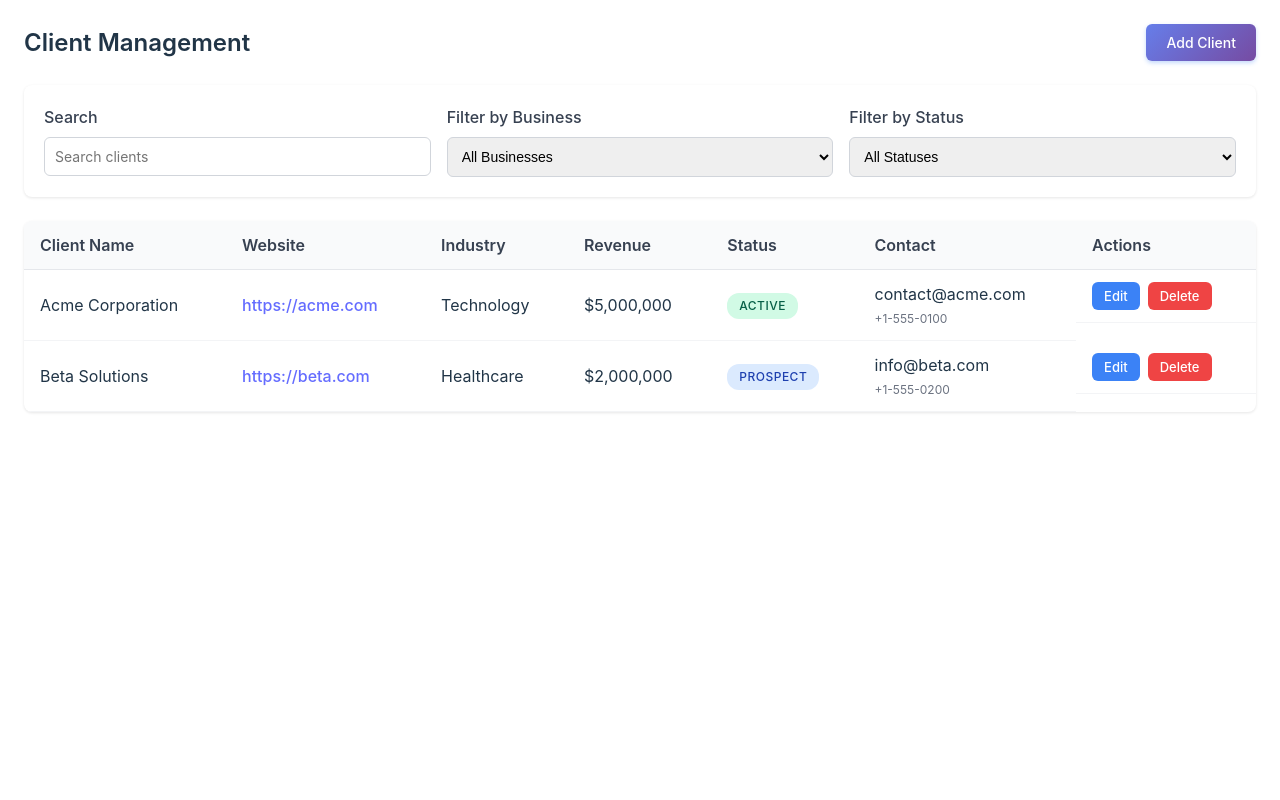
Scenario: ClientsManager › opens edit modal when Edit button is clicked
Click the button "Edit" in the row of "Acme Corporation": x=1116, y=296 [1092,282,1140,310]
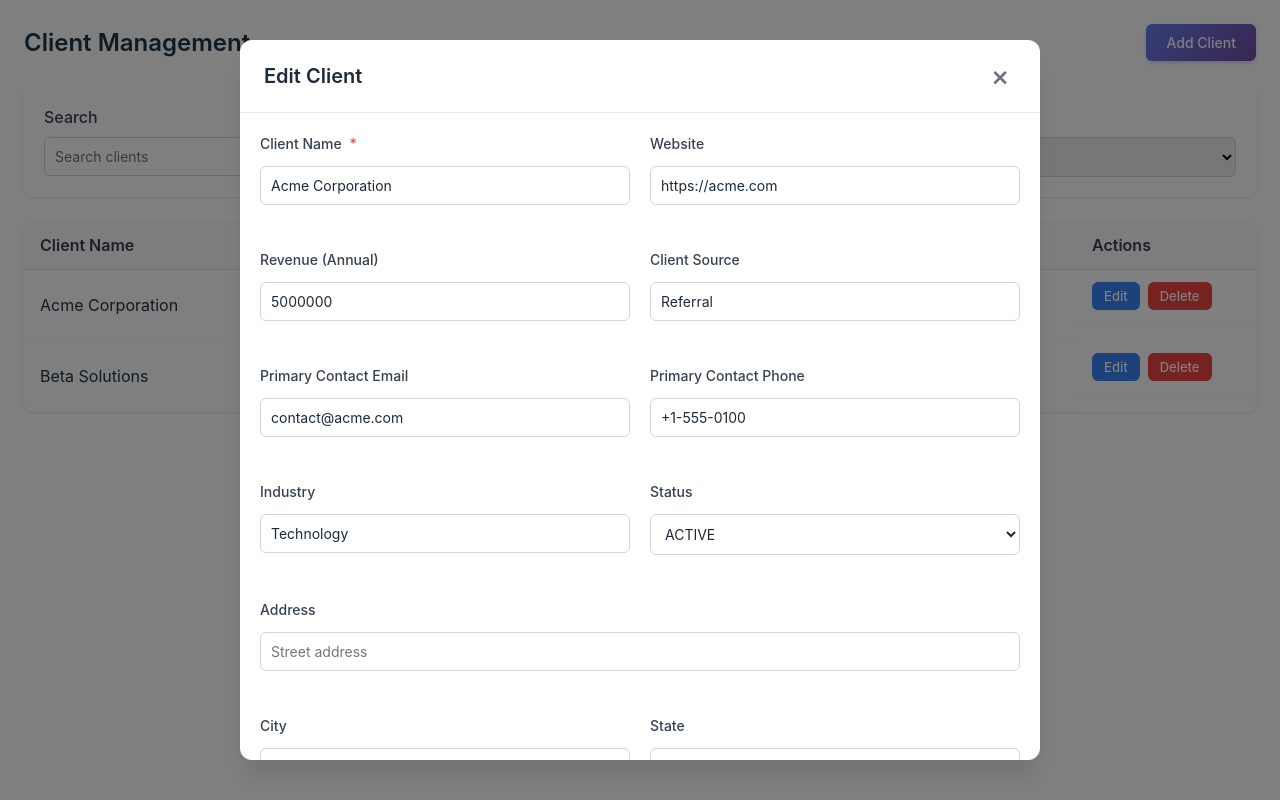
Expected: the heading "Edit Client" is shown, [264,61,362,91]
Expected: the field showing "Acme Corporation" is shown, [260,166,630,205]
